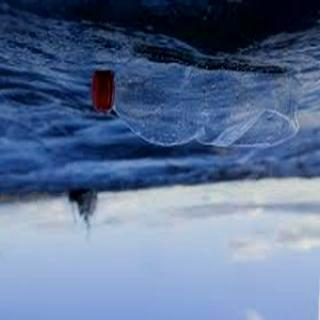Plastic: (92, 65, 301, 148)
